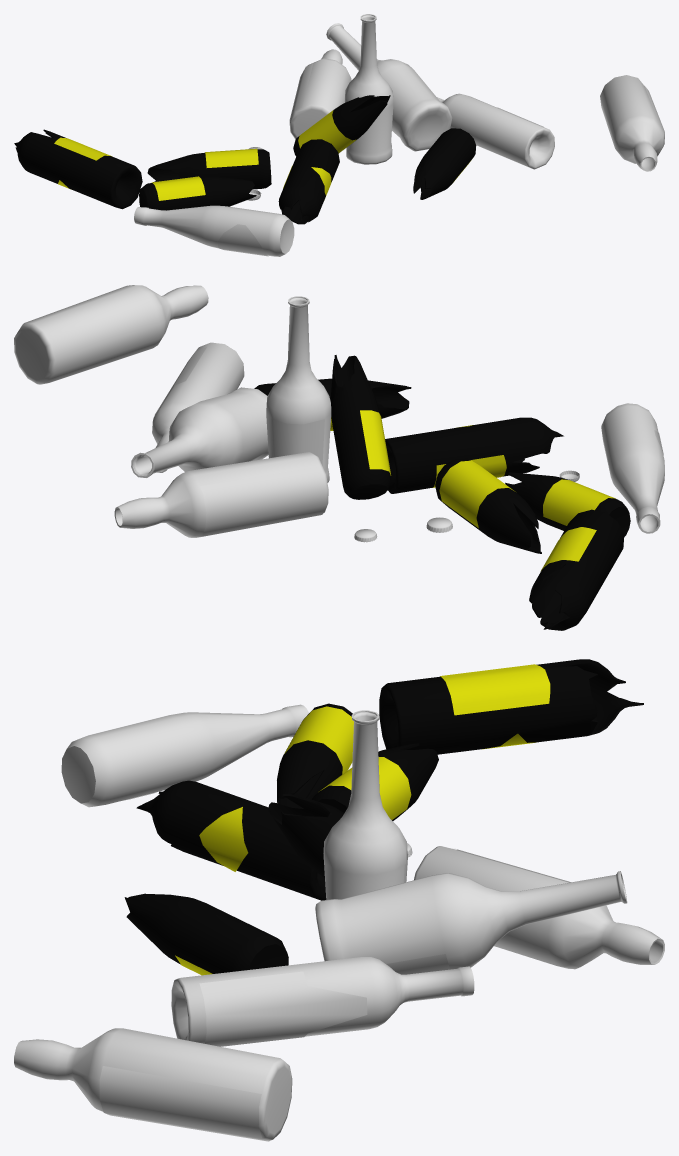
The model's file is SM_Bottle_Cluster_02.fbx.
The picture shows the model from 3 angles, top to bottom: view 1: azimuth 30°, elevation 25°; view 2: azimuth 150°, elevation 25°; view 3: azimuth 270°, elevation 25°; orthographic projection. The views are drawn at different scales.
Visible parts, largest first — view 1: SM_Bottle_Cluster_02_LOD0; view 2: SM_Bottle_Cluster_02_LOD0; view 3: SM_Bottle_Cluster_02_LOD0.
Part boxes in pixels (<box>): SM_Bottle_Cluster_02_LOD0: <box>14,14,664,256</box>; SM_Bottle_Cluster_02_LOD0: <box>14,285,664,630</box>; SM_Bottle_Cluster_02_LOD0: <box>14,659,664,1141</box>.
Size of the model in its own units: 80.64 by 50.72 by 20.08.
